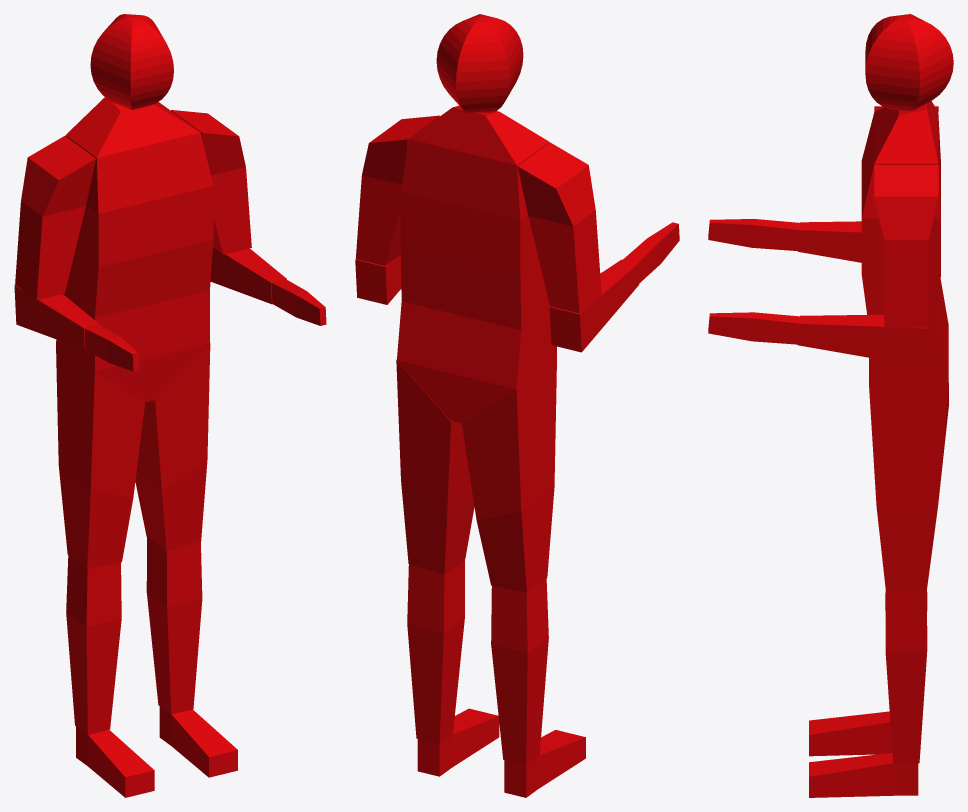
File: player_red.fbx
The picture shows the model from 3 angles, left to right: view 1: azimuth 30°, elevation 25°; view 2: azimuth 150°, elevation 25°; view 3: azimuth 270°, elevation 25°; orthographic projection. The views are drawn at different scales.
Visible parts, largest first — view 1: body; view 2: body; view 3: body.
Boxes of the visible parts, x1,y1,x2,y2 form: body: [14, 14, 326, 797]; body: [355, 14, 679, 797]; body: [708, 14, 953, 797].
Bounding box in the file's own units: 120 × 390 × 115.
